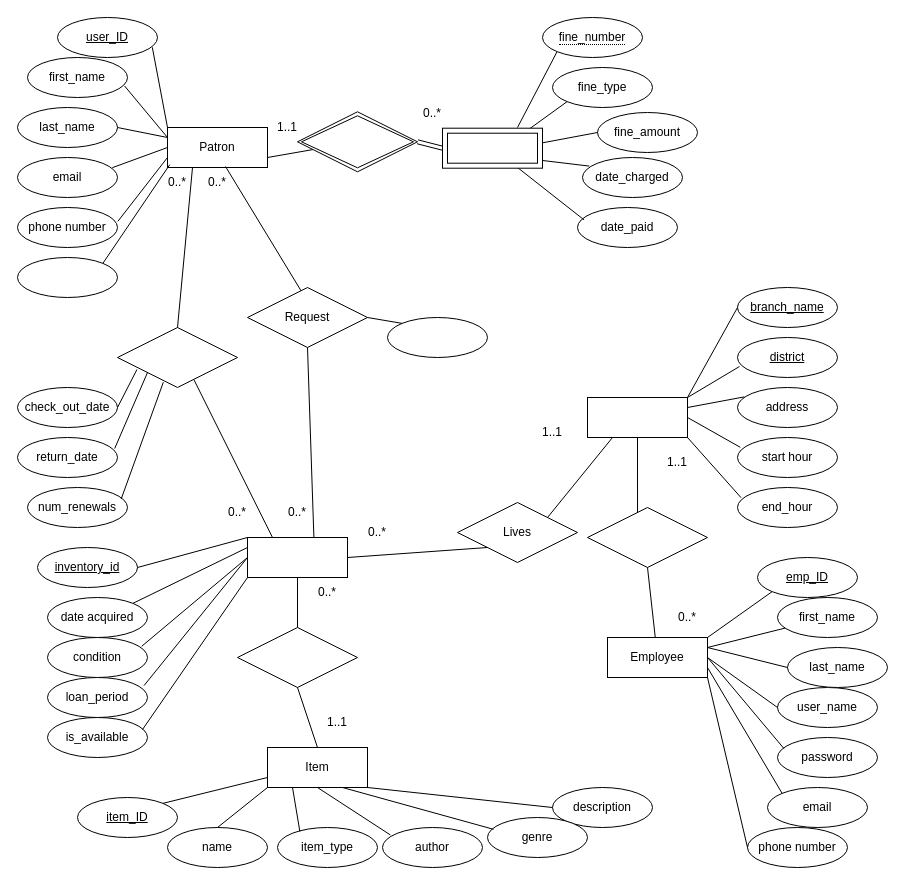
The diagram is 905 pixels wide and 885 high, and some of its shapes have lost their labels. The centre of each missing label's shape, as x and y in pixels:
account_notes: point 67,277
Accrue: point 357,141
Branch: point 637,417
Check Out: point 177,357
Copy: point 297,657
Fines: point 492,147
Inventory Item: point 297,557
request_date: point 437,337
Works: point 647,537
